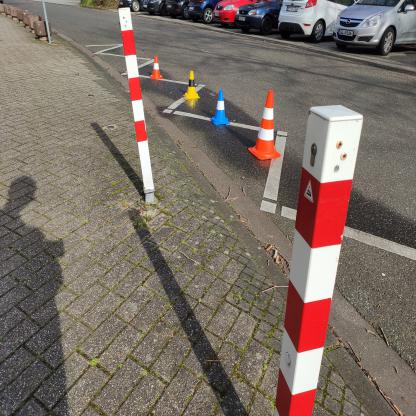Cones_big: (247, 82, 281, 172)
Cones_small_blue: (210, 87, 235, 139)
Cones_small_orange: (149, 51, 163, 80)
Cones_small_yellow: (179, 66, 203, 107)
